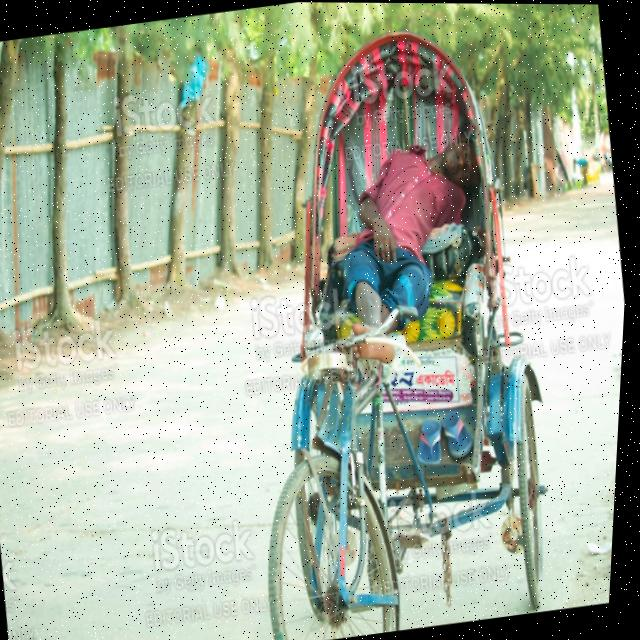rikshaw: (214, 33, 585, 640)
